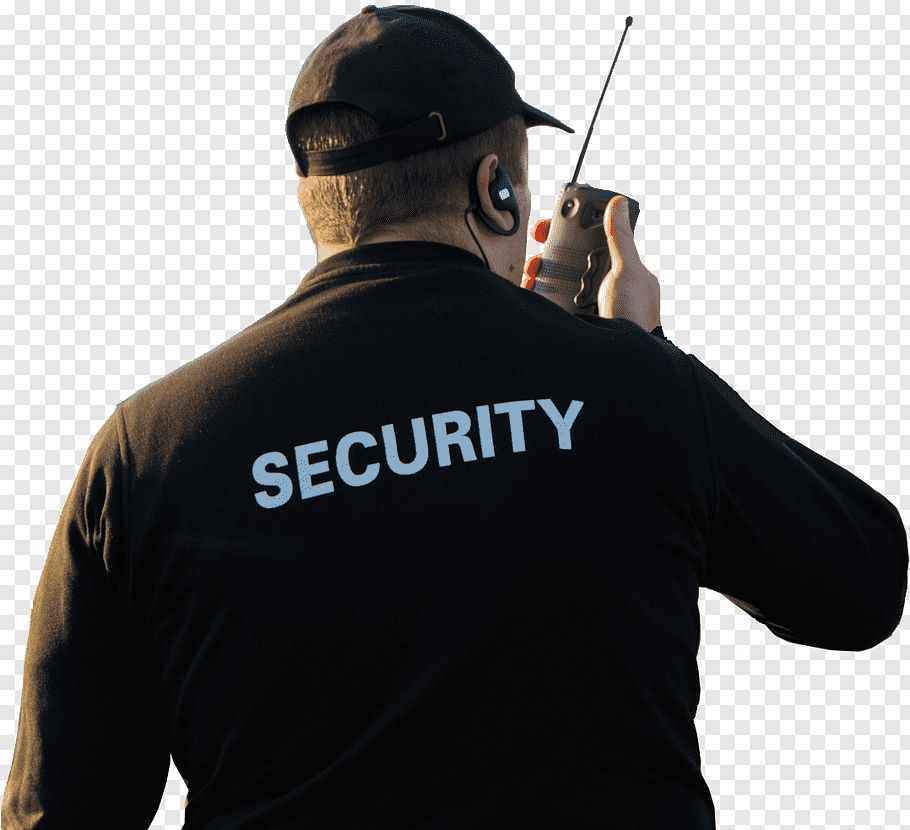uniform: (32, 226, 904, 800)
